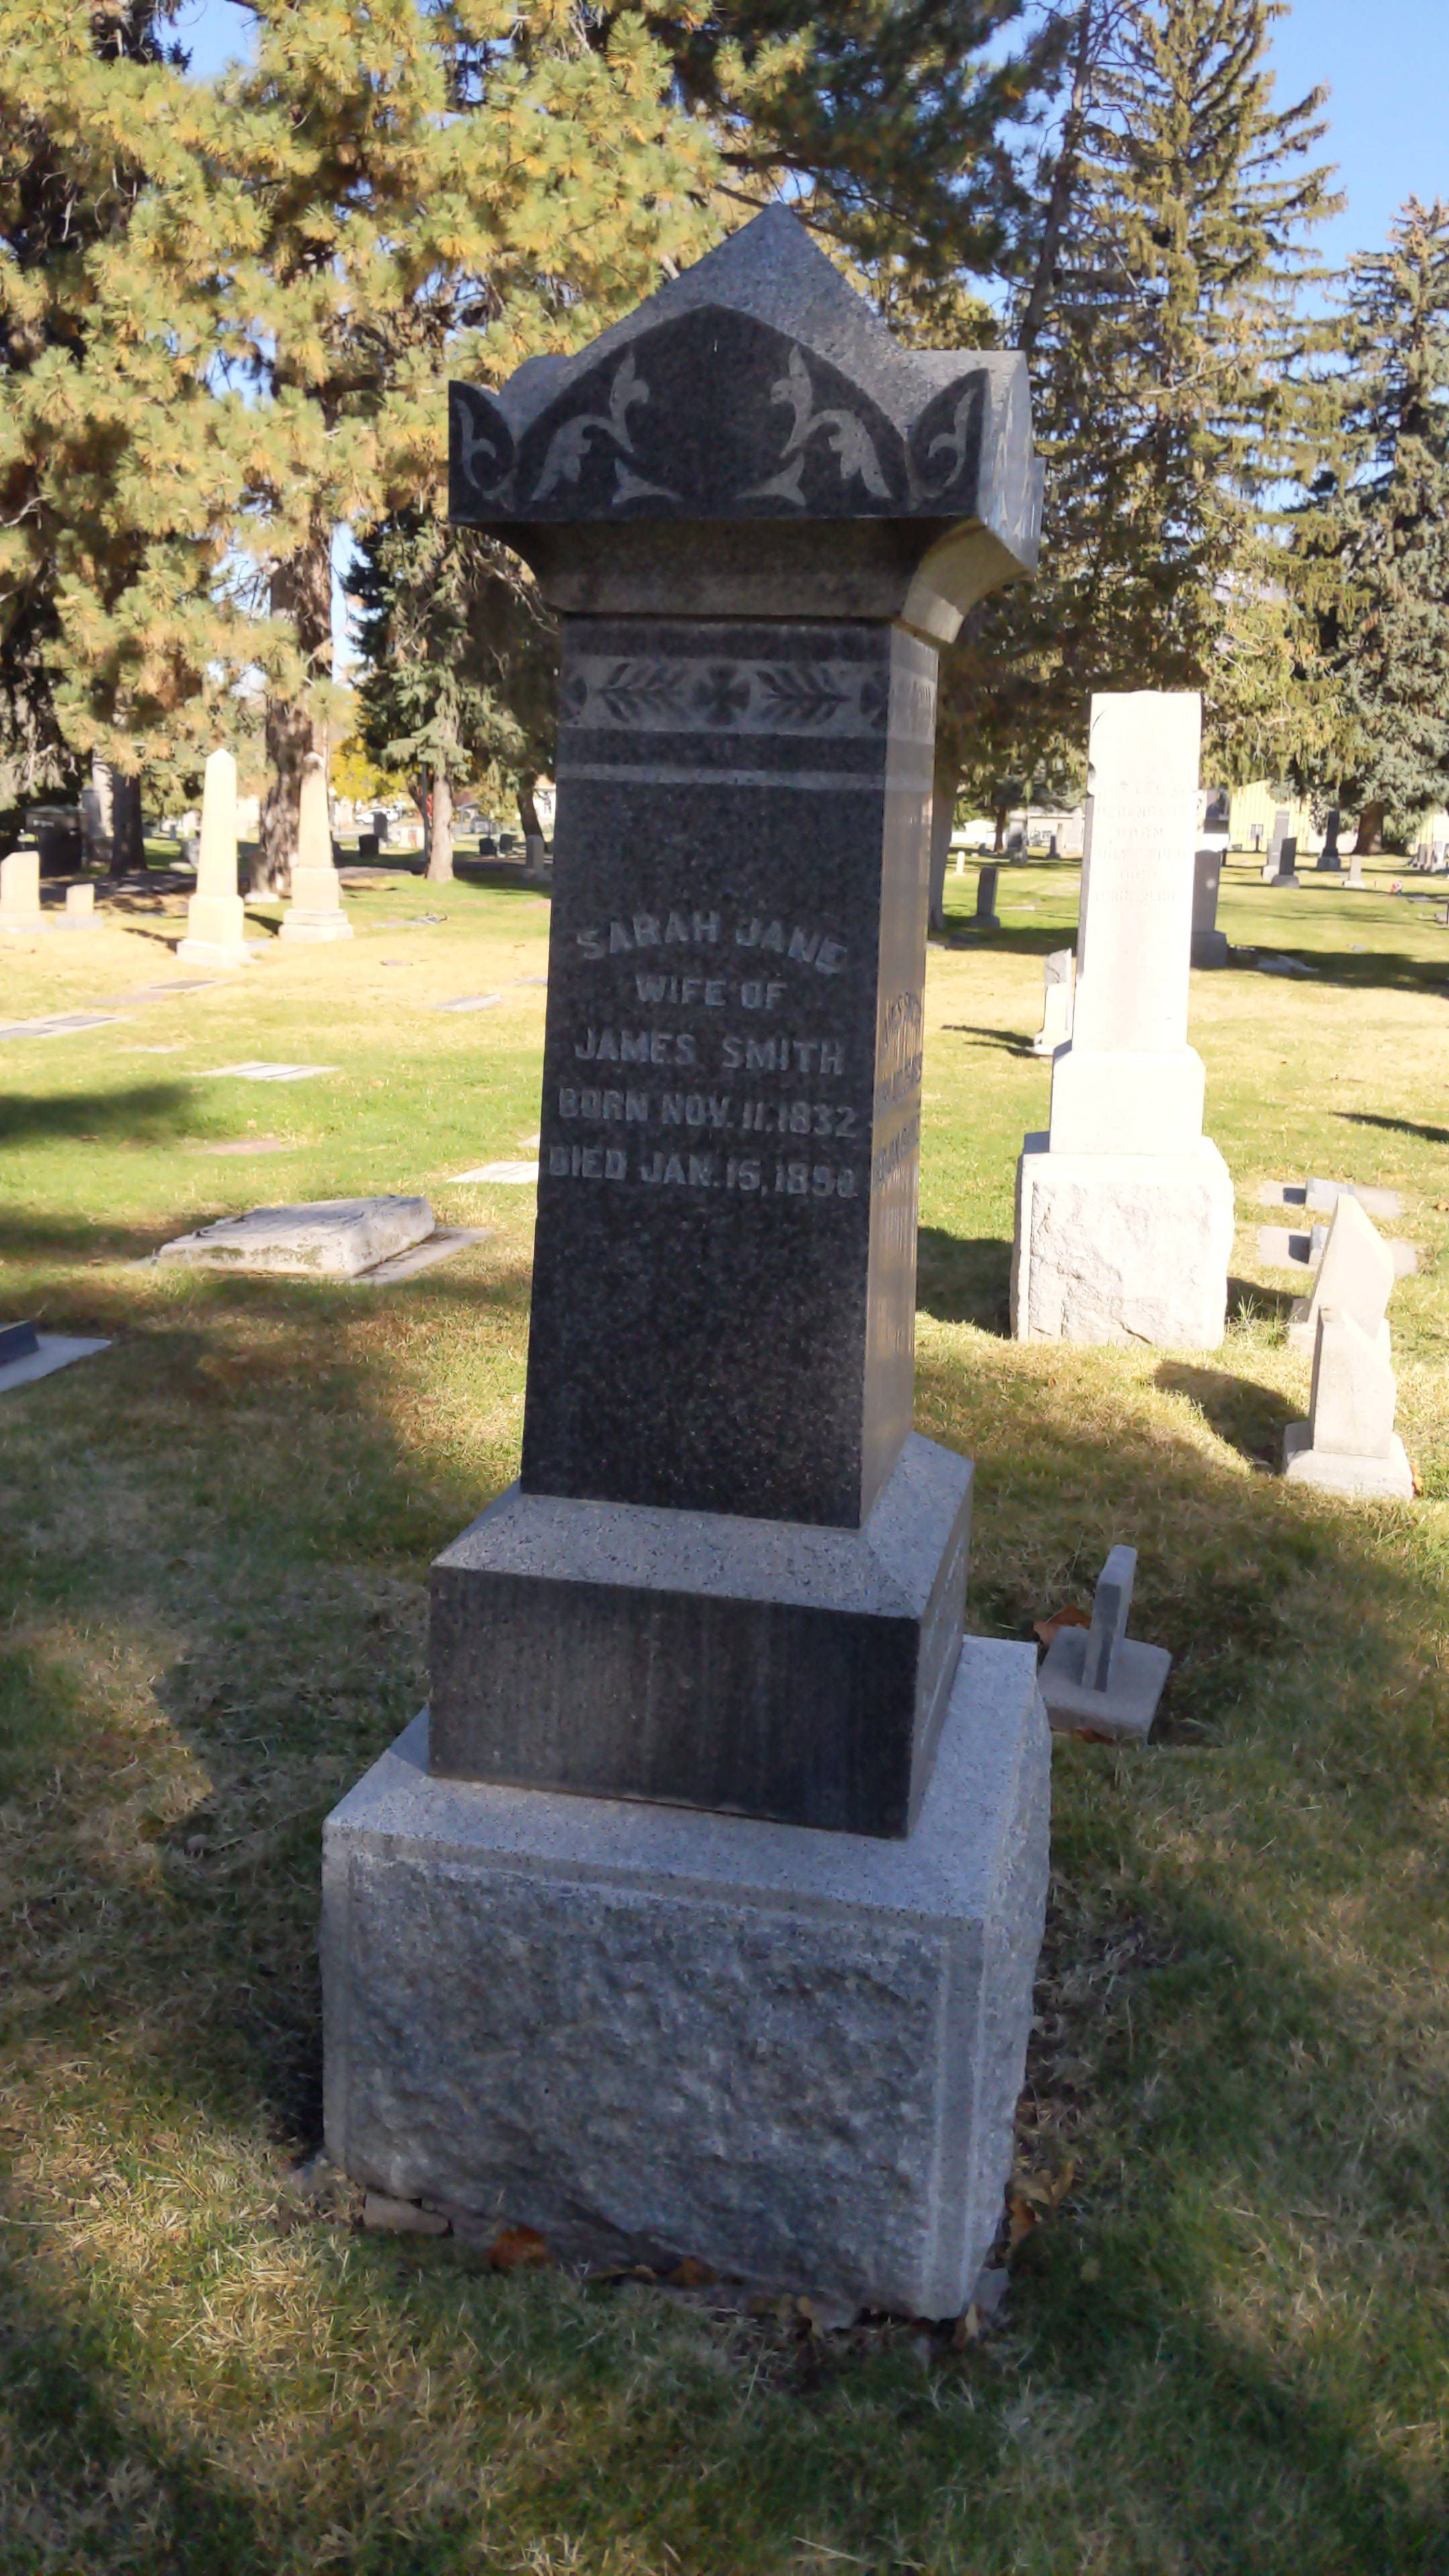obelisk: (432, 203, 1031, 1849)
